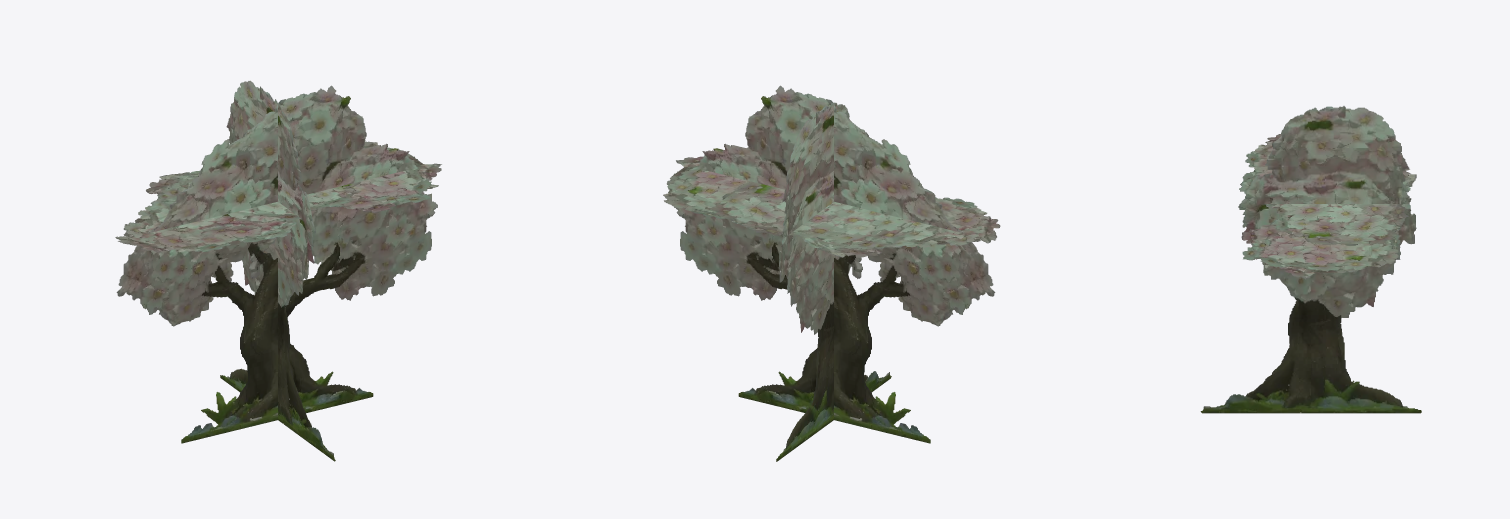
The model's file is tree-sakura.glb.
3 renders of one model, left to right at view 1: azimuth 30°, elevation 25°; view 2: azimuth 150°, elevation 25°; view 3: azimuth 270°, elevation 25°, orthographic. The views are drawn at different scales.
Size of the model in its own units: 1.97 by 1.97 by 1.97.
1 material, 1 textured.
